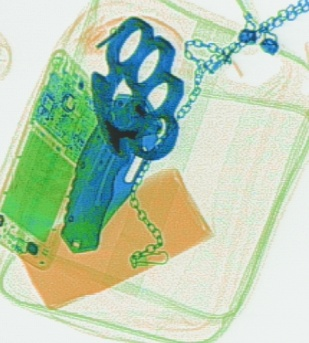knife: (60, 92, 156, 253)
